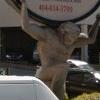Statue: (19, 2, 96, 100)
